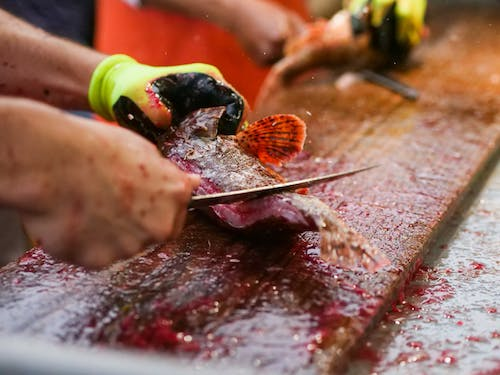blood: (0, 112, 500, 375), (150, 104, 390, 276), (0, 94, 202, 272), (133, 67, 250, 145)
knife: (188, 161, 386, 211)
